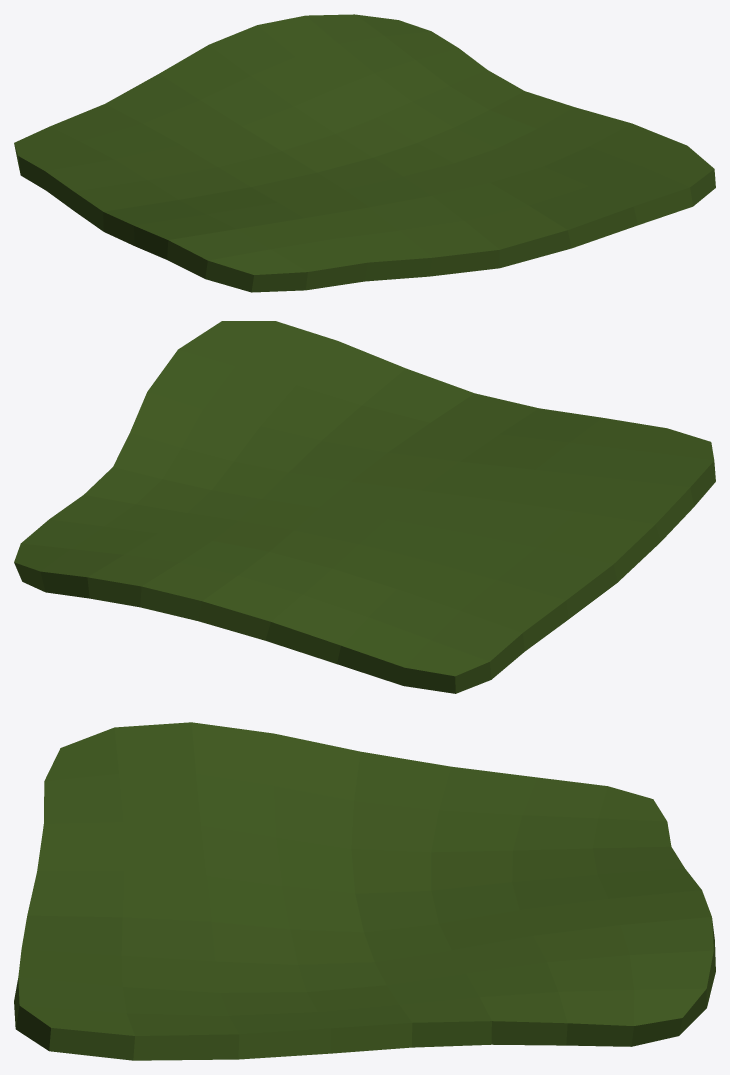
The model's file is grass_mossplatform.fbx.
3 views of the same model, one above another, from view 1: azimuth 30°, elevation 25°; view 2: azimuth 150°, elevation 25°; view 3: azimuth 270°, elevation 25° (orthographic). The views are drawn at different scales.
Visible parts, largest first — view 1: Plane; view 2: Plane; view 3: Plane.
Part boxes in pixels (box(x1,y1,x2,y2)): Plane: box(14, 14, 715, 292); Plane: box(14, 321, 715, 693); Plane: box(14, 722, 715, 1060).
Bounding box in the file's own units: 711 × 87.55 × 692.
